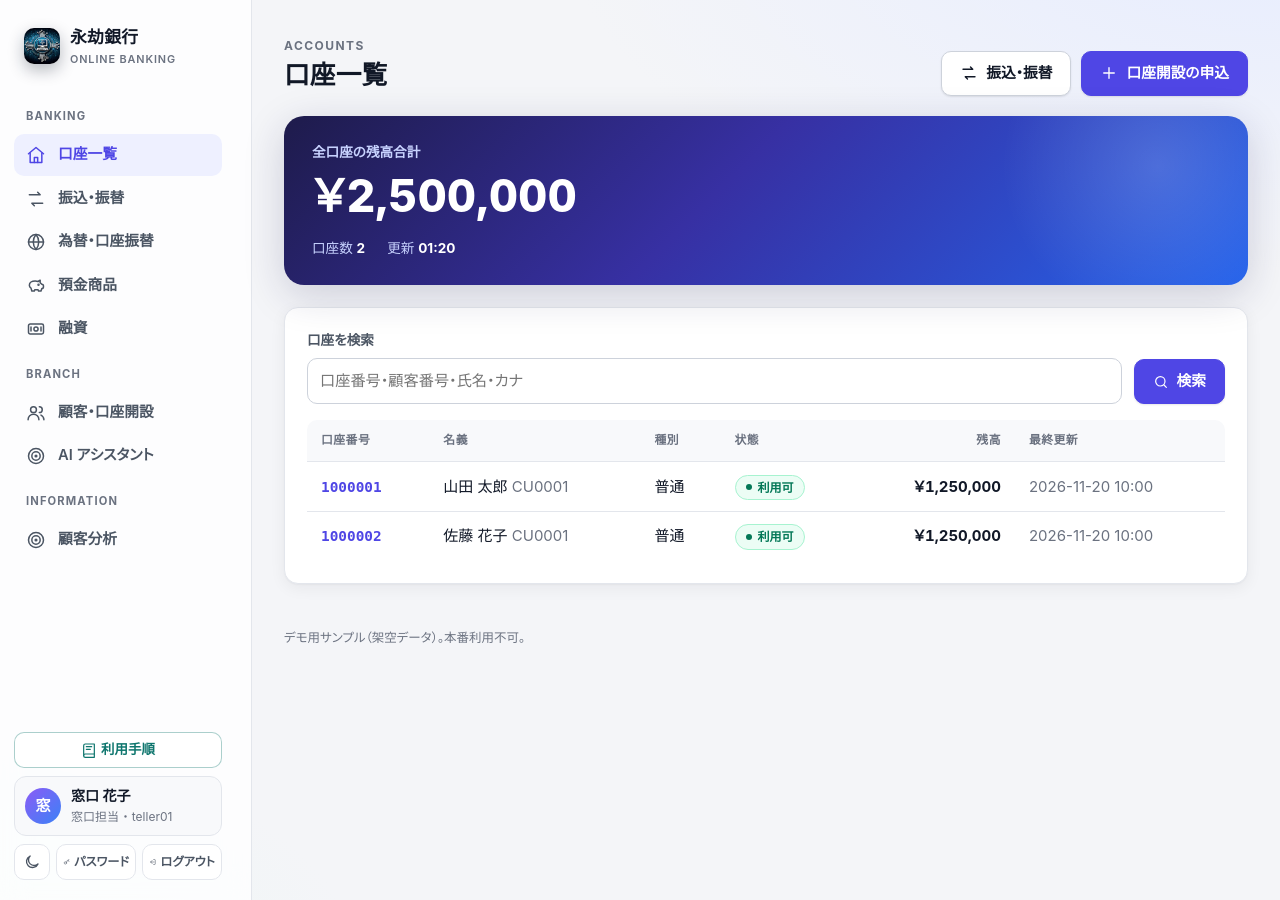
Test: DashboardPage › 行員：一覧表・検索・クリア
Check: the link "1000002" is shown, box 321,528 -> 382,544
Check: the text "全口座の残高合計" is shown, box 312,144 -> 420,160
In the field labelled "口座を検索": (714, 381) 307,358 -> 1122,404, type " 999 "
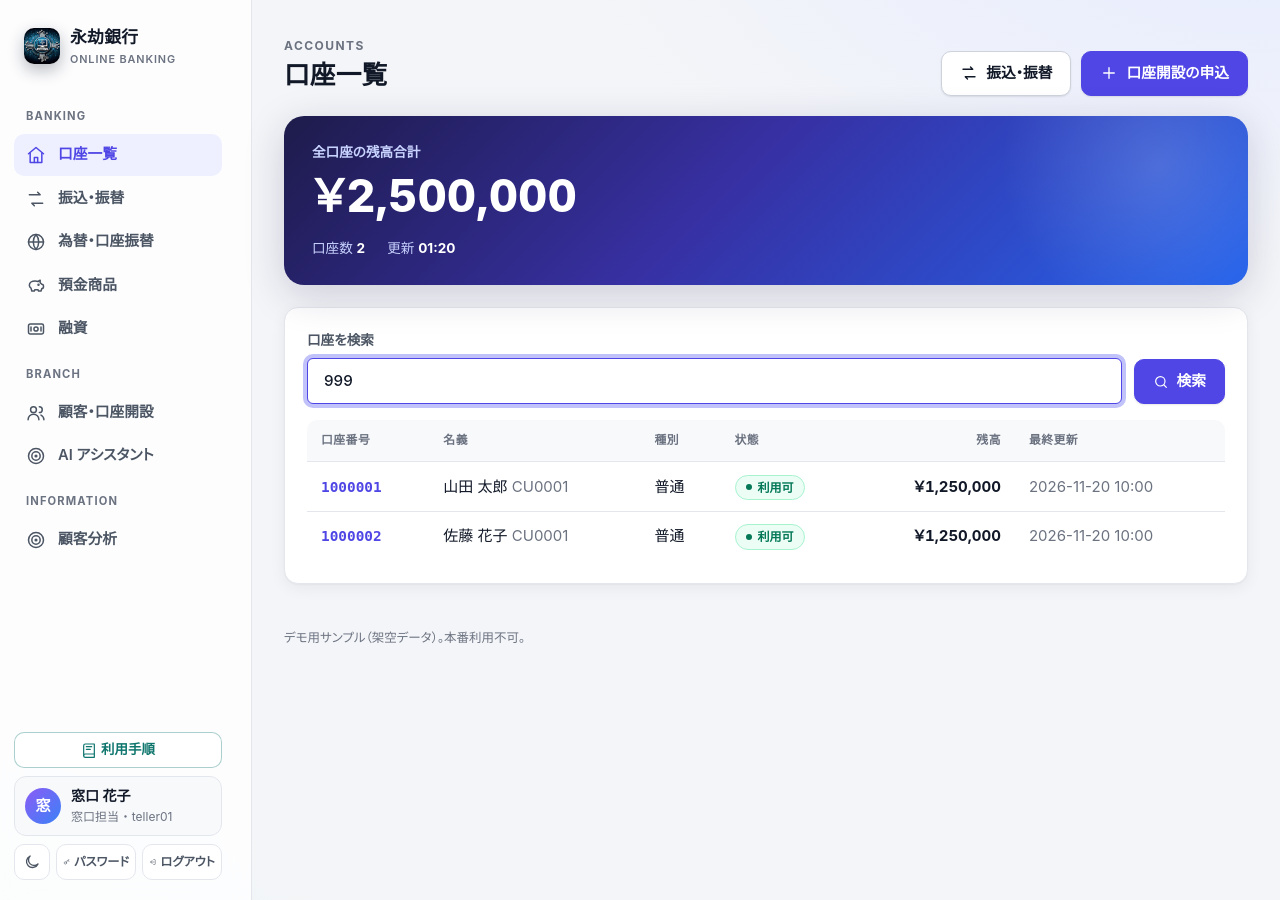
Click the button "検索": (1179, 382) 1134,359 -> 1225,404
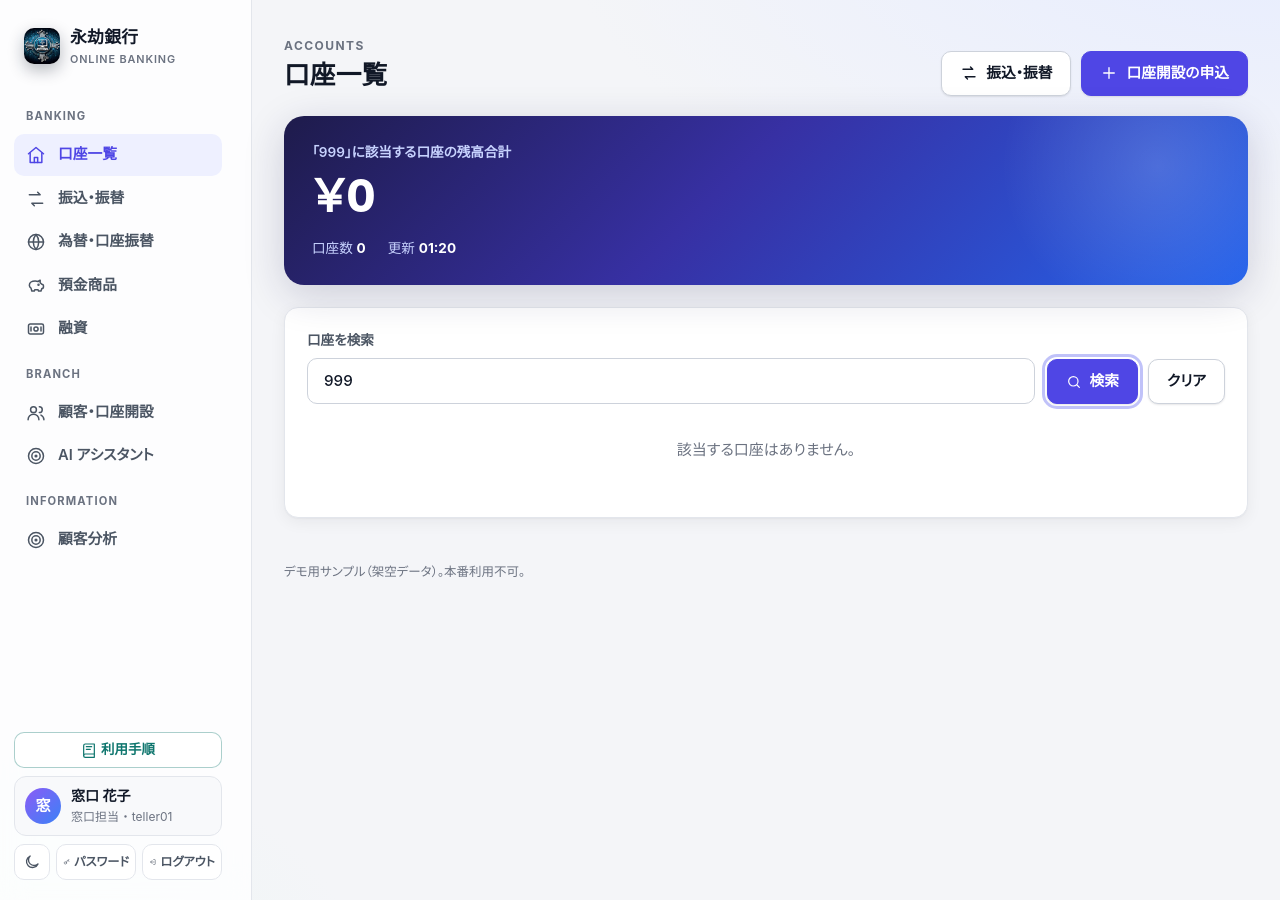
Check: the text "該当する口座はありません。" is shown, box 677,440 -> 855,459
Check: the text "「999」に該当する口座の残高合計" is shown, box 312,144 -> 511,160
Click the button "クリア": (1186, 382) 1148,359 -> 1225,404
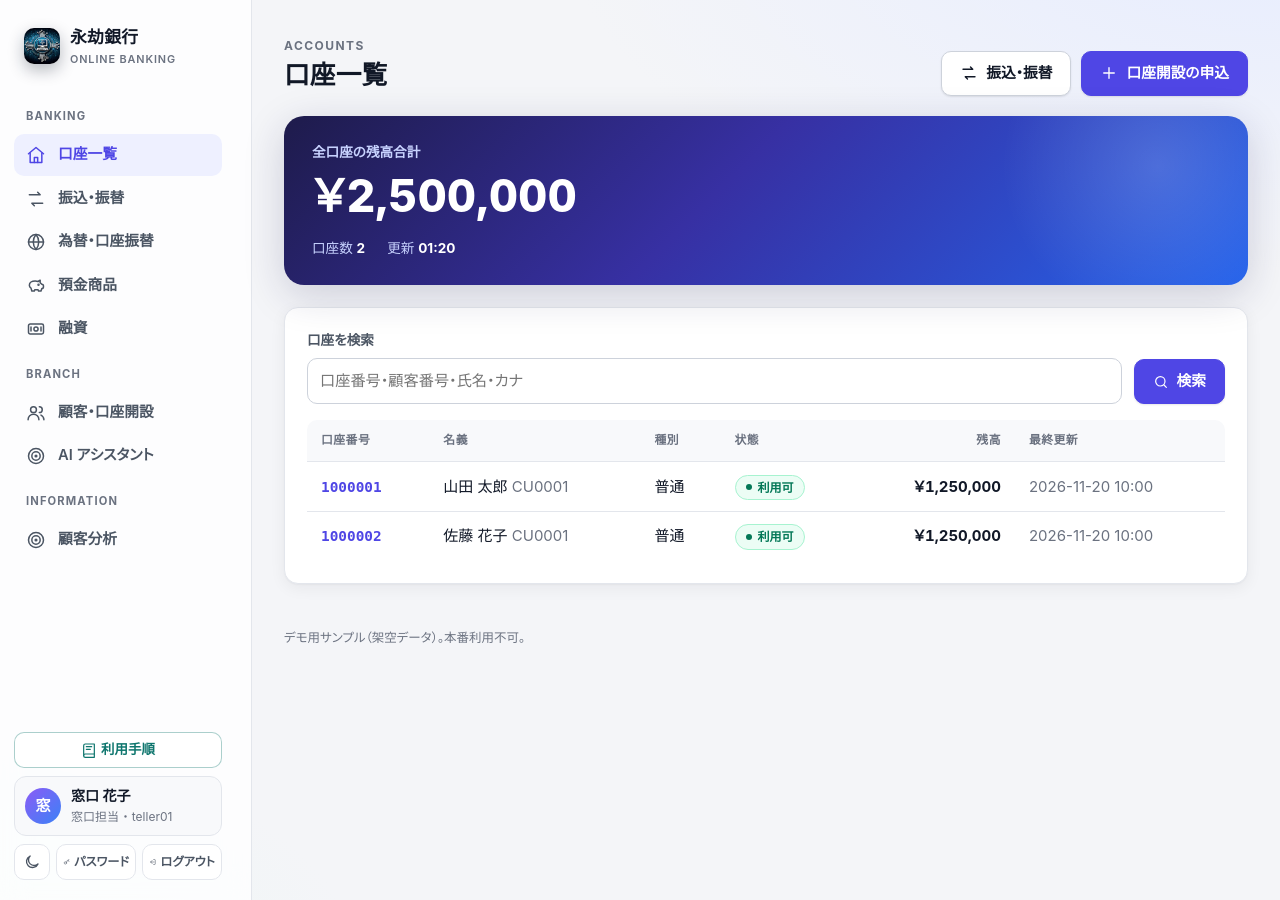
Check: the link "1000002" is shown, box 321,528 -> 382,544
Check: the field labelled "口座を検索" is empty, box 307,358 -> 1122,404
